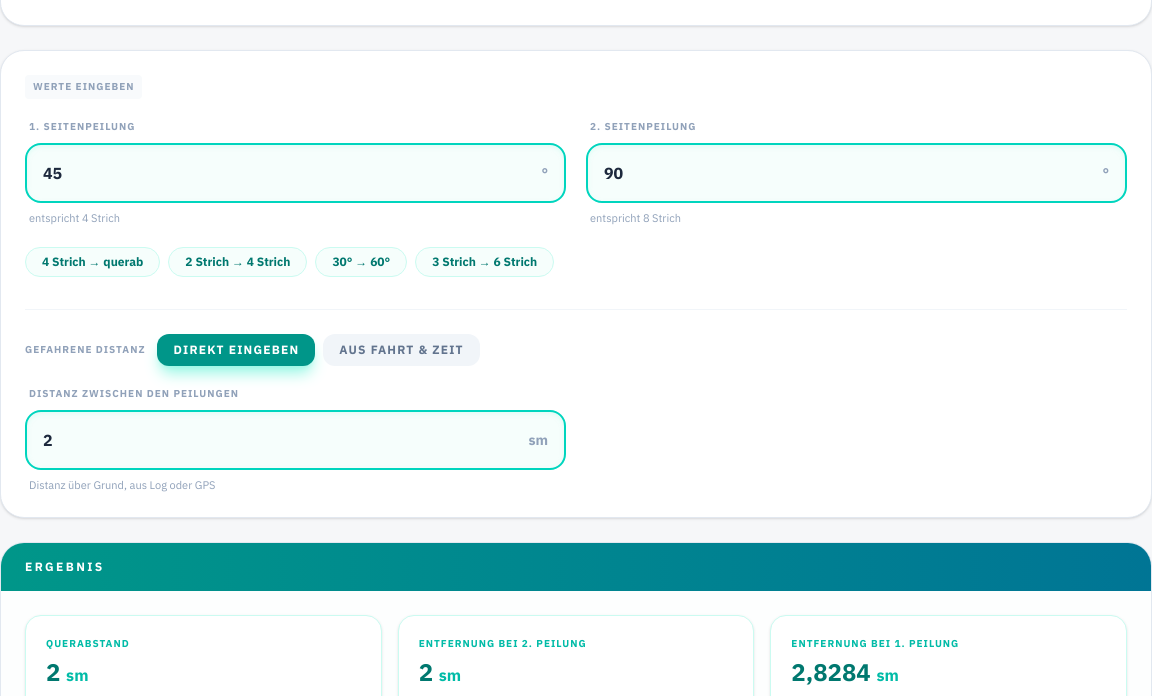
Test: VersegelungRechner › Umschalten auf Fahrt und Zeit rechnet die Distanz selbst aus
The width and height of the screenshot is (1152, 696).
(page scrolled)
Step 1. Click the button "aus Fahrt & Zeit" → [402, 350], box 323,334 -> 480,366
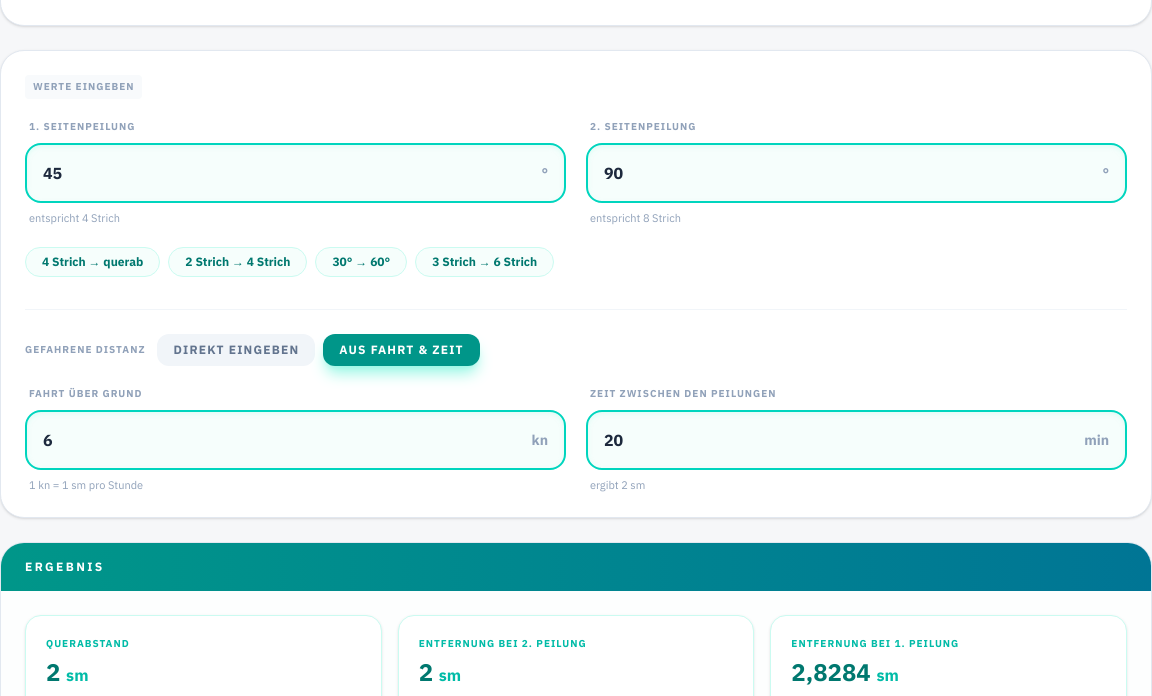
Expected: the number field labelled "Fahrt über Grund" holds "6", 27,412 -> 564,468
Expected: the number field labelled "Zeit zwischen den Peilungen" holds "20", 588,412 -> 1125,468
Expected: the text "ergibt 2 sm" is shown, 590,478 -> 645,492
